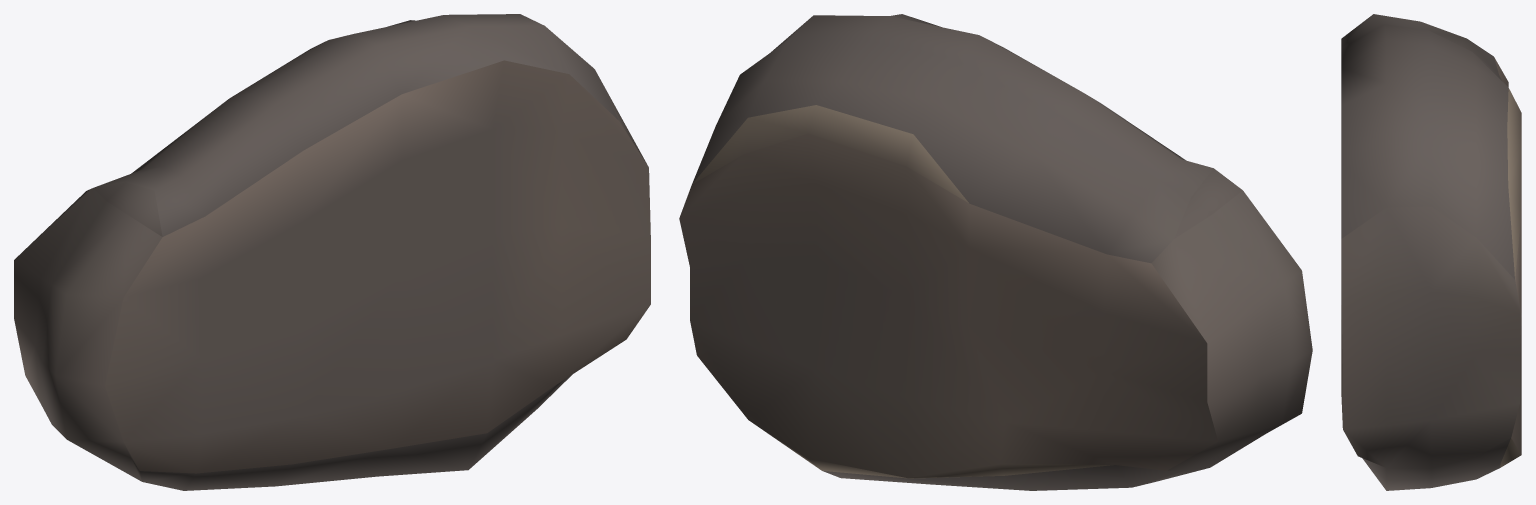
File: RockSmall.010.glb
3 renders of one model, left to right at view 1: azimuth 30°, elevation 25°; view 2: azimuth 150°, elevation 25°; view 3: azimuth 270°, elevation 25°, orthographic. The views are drawn at different scales.
Parts seen in each view (by area): view 1: RockSmall.010; view 2: RockSmall.010; view 3: RockSmall.010.
Part boxes in pixels (x1=…): RockSmall.010: x1=14, y1=14, x2=650, y2=490; RockSmall.010: x1=679, y1=14, x2=1312, y2=490; RockSmall.010: x1=1341, y1=14, x2=1521, y2=490.
Size of the model in its own units: 215 by 158 by 63.14.
